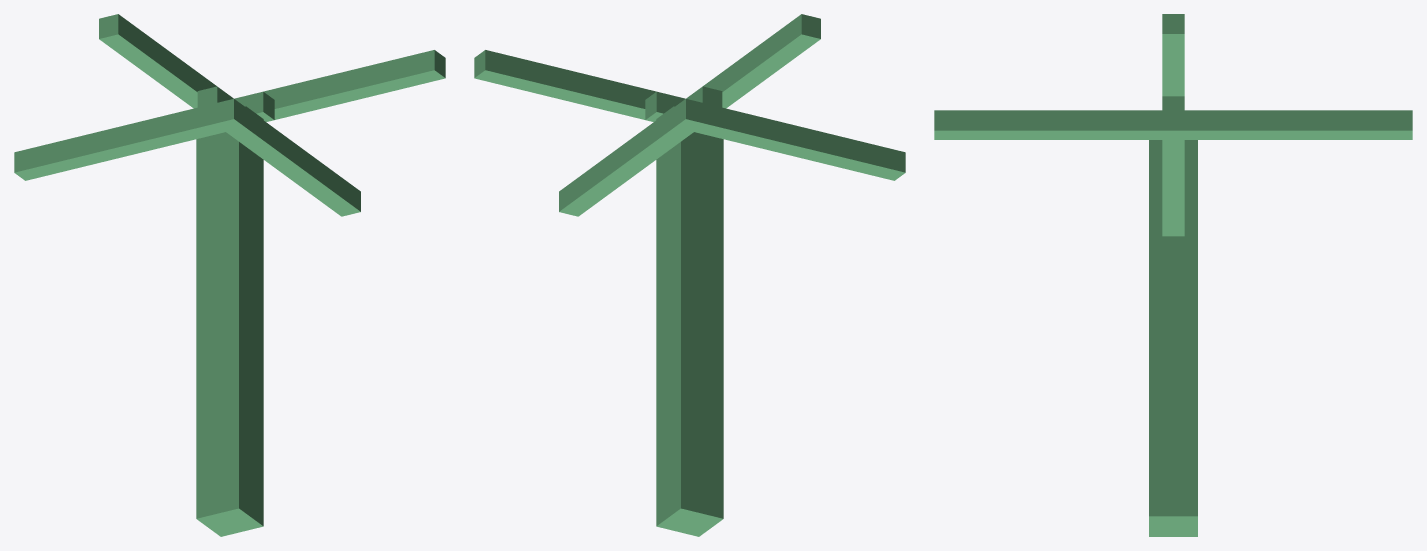
Rendered from palm.gltf.
3 views of the same model, side by side, from view 1: azimuth 30°, elevation 25°; view 2: azimuth 150°, elevation 25°; view 3: azimuth 270°, elevation 25° (orthographic).
Parts seen in each view (by area): view 1: part0, part1, part2, part3, part4; view 2: part0, part1, part2, part4, part3; view 3: part0, part3, part4, part2, part1.
Boxes of the visible parts, <box> form: part0: <box>196,106,263,536</box>; part1: <box>185,50,445,138</box>; part2: <box>14,91,274,180</box>; part3: <box>197,86,360,216</box>; part4: <box>99,14,262,144</box>; part0: <box>656,106,723,536</box>; part1: <box>474,50,734,138</box>; part2: <box>645,92,905,180</box>; part4: <box>559,86,722,216</box>; part3: <box>657,14,820,144</box>; part0: <box>1149,140,1197,536</box>; part3: <box>934,110,1217,139</box>; part4: <box>1129,110,1412,139</box>; part2: <box>1162,14,1184,153</box>; part1: <box>1162,96,1184,236</box>.
Bounding box in the file's own units: 5.4 × 5.12 × 5.4.
